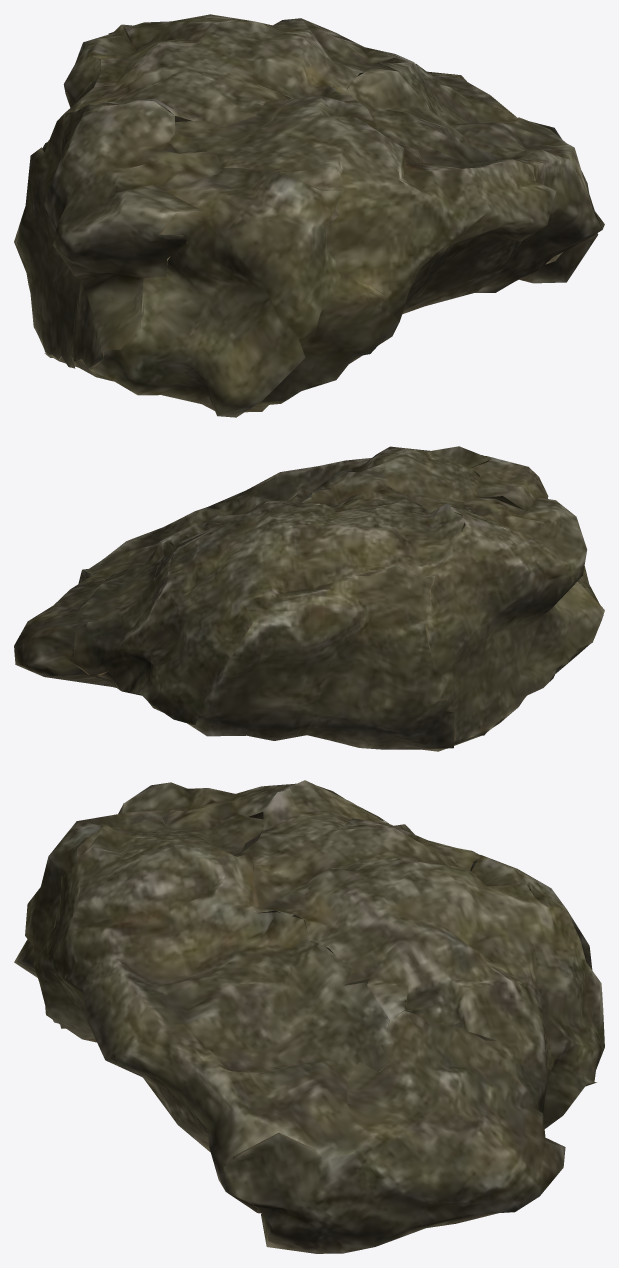
File: rock_moss_set_02_3.glb
The picture shows the model from 3 angles, top to bottom: view 1: azimuth 30°, elevation 25°; view 2: azimuth 150°, elevation 25°; view 3: azimuth 270°, elevation 25°; orthographic projection. The views are drawn at different scales.
Parts seen in each view (by area): view 1: rock_moss_set_02_rock12; view 2: rock_moss_set_02_rock12; view 3: rock_moss_set_02_rock12.
Boxes of the visible parts, x1=… form: rock_moss_set_02_rock12: x1=14, y1=14, x2=604, y2=417; rock_moss_set_02_rock12: x1=14, y1=446, x2=604, y2=751; rock_moss_set_02_rock12: x1=14, y1=780, x2=604, y2=1253.
Size of the model in its own units: 1.57 by 0.7353 by 1.44.
1 material, 1 textured.
